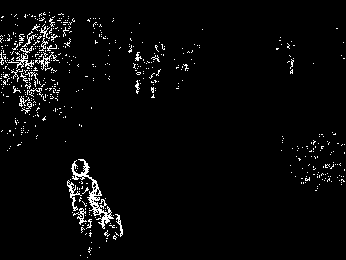person: (66, 156, 124, 252), (147, 53, 161, 102), (131, 50, 143, 95)
